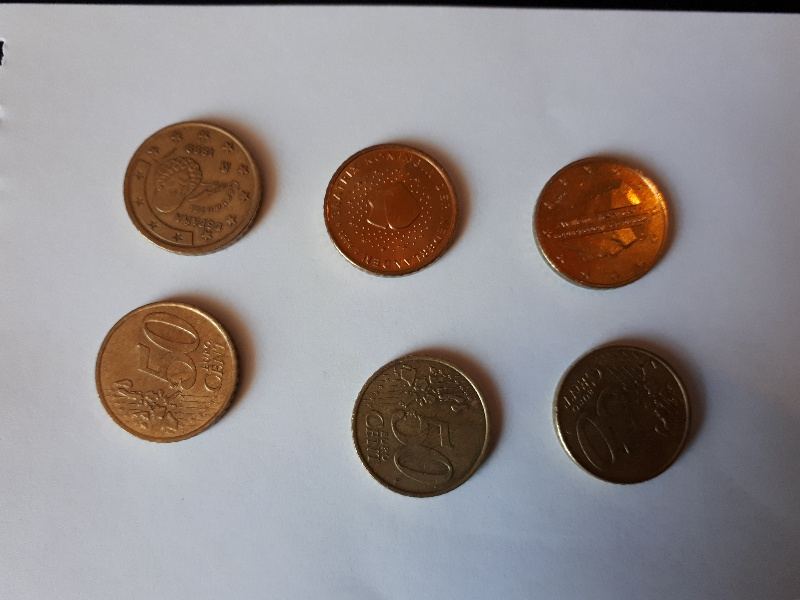50 cent: (95, 295, 246, 447), (349, 348, 495, 502), (546, 341, 695, 491), (528, 153, 677, 293), (121, 118, 269, 256), (322, 140, 464, 277)
